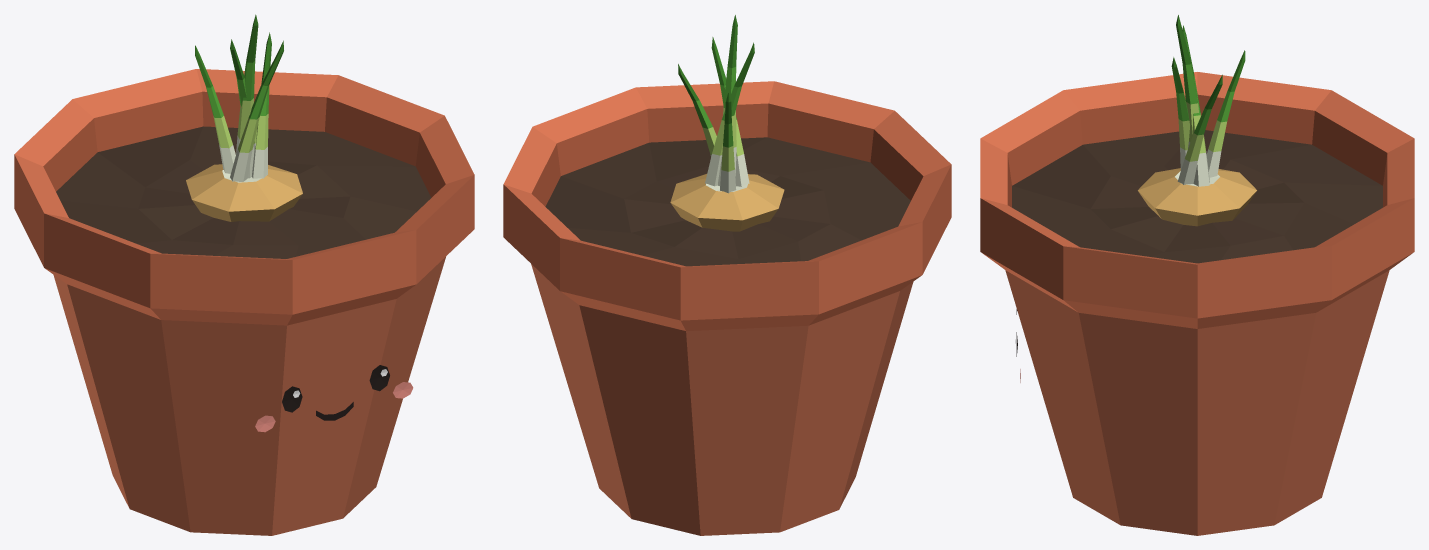
Rendered from onion_2.glb.
The picture shows the model from 3 angles, left to right: view 1: azimuth 30°, elevation 25°; view 2: azimuth 150°, elevation 25°; view 3: azimuth 270°, elevation 25°; orthographic projection. The views are drawn at different scales.
Visible parts, largest first — view 1: Onion_Stage2_Young; view 2: Onion_Stage2_Young; view 3: Onion_Stage2_Young.
Boxes of the visible parts, x1,y1,x2,y2 form: Onion_Stage2_Young: (14, 14, 474, 535); Onion_Stage2_Young: (503, 15, 951, 535); Onion_Stage2_Young: (980, 15, 1414, 535).
Bounding box in the file's own units: 1.92 × 2.17 × 1.83.
